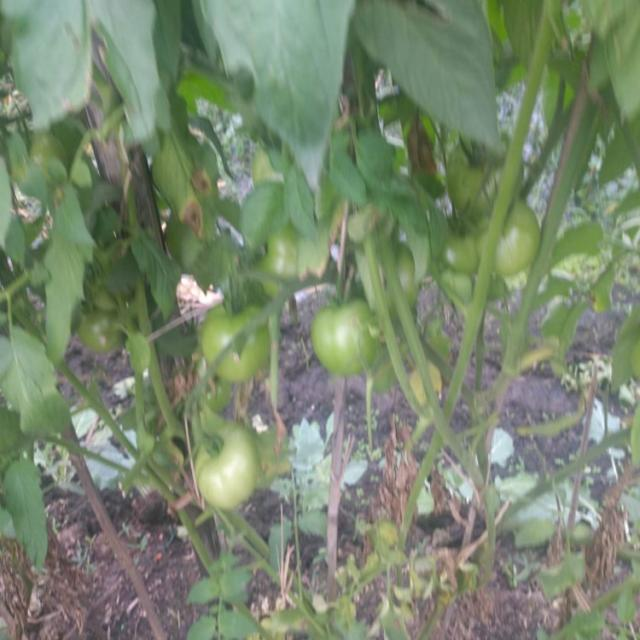tomato: (200, 300, 271, 377), (446, 131, 511, 207), (484, 193, 541, 277), (199, 424, 254, 505), (247, 227, 305, 297), (314, 305, 371, 376), (376, 245, 419, 316), (13, 130, 63, 189), (440, 211, 480, 278), (89, 311, 130, 360), (87, 283, 125, 307)
